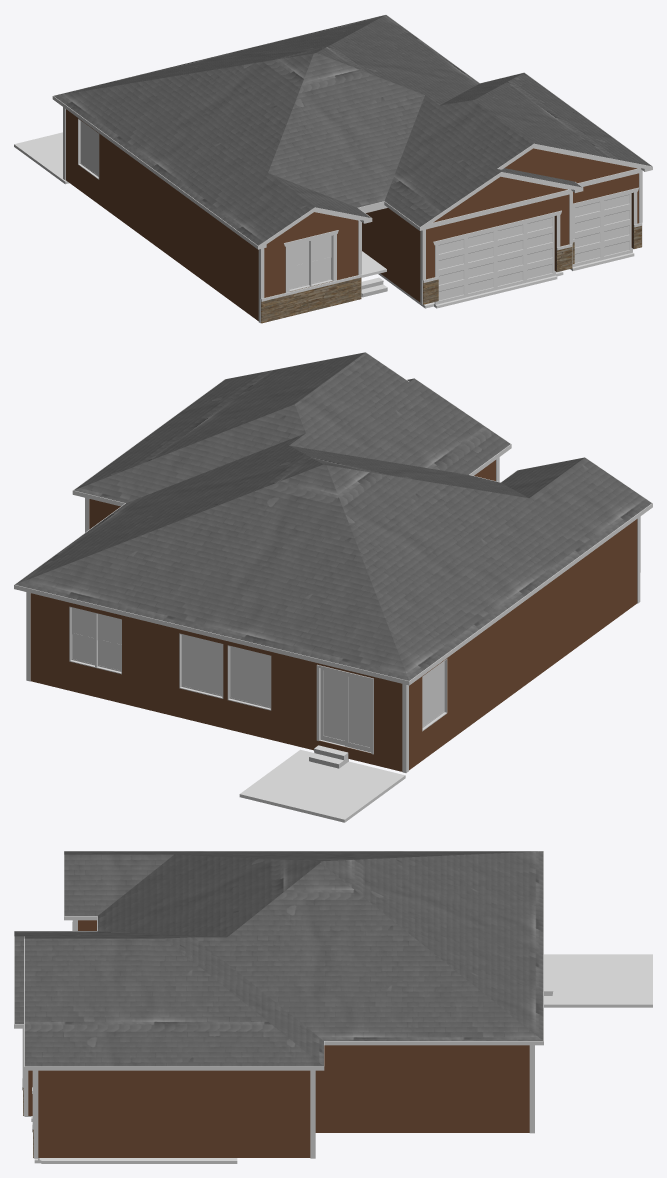
File: 150-1569-dm-craftsman.glb
3 views of the same model, one above another, from view 1: azimuth 30°, elevation 25°; view 2: azimuth 150°, elevation 25°; view 3: azimuth 270°, elevation 25° (orthographic). The views are drawn at different scales.
Visible parts, largest first — view 1: Basic Roof Wood Rafter 4" - Asphalt Shingle - Insulated_f702, Basic Wall BSB Exterior - Stud_5.5" - Sheathing_0.5" - _1e27, Traditional - BSB Exterior - Overhead Garage Door - Clo_dd95, Fascia Fascia-Flat 1x6 w/12" Soffit Bd [4297153], Basic Wall BSB Exterior - Stud_3.5" - Sheathing_0.5" - _b436, Traditional - BSB Exterior - Overhead Garage Door - Clo_6f50, Basic Wall BSB Exterior - Stud_3.5" - Sheathing_0.5" - _dc0e, Basic Wall BSB Exterior - Stud_5.5" - Sheathing_0.5" - _5101, Basic Wall BSB Exterior - Stud_1.5" - Sheathing_0.5" - _1e55, Basic Wall BSB Exterior - Stone Veneer_2" [4291370], Basic Wall BSB Exterior - Stud_1.5" - Sheathing_0.5" - _87de, Trim - Corner Boards Trim - Corner Boards [4294259] (+14 smaller); view 2: Basic Roof Wood Rafter 4" - Asphalt Shingle - Insulated_f702, Basic Wall BSB Exterior - Stud_5.5" - Sheathing_0.5" - _50df, Basic Wall BSB Exterior - Stud_5.5" - Sheathing_0.5" - _1e27, Floor Generic - 4" [4266487], Fascia Fascia-Flat 1x6 w/12" Soffit Bd [4297153], BSB Exterior - SGD XO - 1-Lite 6080 [4266501], BSB Fixed 5060 FX w/ Sill [4266502], BSB Fixed 5060 FX w/ Sill [4266503], Trim - Corner Boards Trim - Corner Boards [4294259], Basic Wall BSB Exterior - Stud_5.5" - Sheathing_0.5" - _eb66, BSB Single Hung 3060 SH w/ Sill [4266484], BSB Single Hung 3060 SH w/ Sill [4266483] (+1 smaller); view 3: Basic Roof Wood Rafter 4" - Asphalt Shingle - Insulated_f702, Basic Wall BSB Exterior - Stud_5.5" - Sheathing_0.5" - _ae12, Basic Wall BSB Exterior - Stud_3.5" - Sheathing_0.5" - _9955, Basic Wall BSB Exterior - Stud_3.5" - Sheathing_0.5" - _d089, Basic Wall BSB Exterior - Stud_5.5" - Sheathing_0.5" - _a6fc, Floor Generic - 4" [4266487], Fascia Fascia-Flat 1x6 w/12" Soffit Bd [4297153], Trim - Corner Boards Trim - Corner Boards [4294259], Floor BSB Concrete Slab - 4" - Slope Option [4286421].
Part boxes in pixels (x1,y1,x2,y2): Basic Roof Wood Rafter 4" - Asphalt Shingle - Insulated_f702: [54, 15, 651, 245]; Basic Wall BSB Exterior - Stud_5.5" - Sheathing_0.5" - _1e27: [66, 110, 243, 309]; Traditional - BSB Exterior - Overhead Garage Door - Clo_dd95: [434, 216, 555, 304]; Fascia Fascia-Flat 1x6 w/12" Soffit Bd [4297153]: [52, 14, 652, 249]; Basic Wall BSB Exterior - Stud_3.5" - Sheathing_0.5" - _b436: [362, 208, 420, 302]; Traditional - BSB Exterior - Overhead Garage Door - Clo_6f50: [572, 193, 632, 266]; Basic Wall BSB Exterior - Stud_3.5" - Sheathing_0.5" - _dc0e: [426, 194, 569, 279]; Basic Wall BSB Exterior - Stud_5.5" - Sheathing_0.5" - _5101: [264, 220, 358, 297]; Basic Wall BSB Exterior - Stud_1.5" - Sheathing_0.5" - _1e55: [505, 148, 637, 183]; Basic Wall BSB Exterior - Stone Veneer_2" [4291370]: [261, 275, 361, 323]; Basic Wall BSB Exterior - Stud_1.5" - Sheathing_0.5" - _87de: [433, 176, 567, 222]; Trim - Corner Boards Trim - Corner Boards [4294259]: [63, 107, 642, 323]; Basic Roof Wood Rafter 4" - Asphalt Shingle - Insulated_f702: [15, 352, 651, 680]; Basic Wall BSB Exterior - Stud_5.5" - Sheathing_0.5" - _50df: [30, 593, 402, 771]; Basic Wall BSB Exterior - Stud_5.5" - Sheathing_0.5" - _1e27: [409, 532, 618, 770]; Floor Generic - 4" [4266487]: [239, 749, 405, 822]; Fascia Fascia-Flat 1x6 w/12" Soffit Bd [4297153]: [14, 352, 652, 685]; BSB Exterior - SGD XO - 1-Lite 6080 [4266501]: [316, 664, 373, 754]; BSB Fixed 5060 FX w/ Sill [4266502]: [227, 645, 271, 710]; BSB Fixed 5060 FX w/ Sill [4266503]: [179, 633, 223, 698]; Trim - Corner Boards Trim - Corner Boards [4294259]: [26, 457, 640, 772]; Basic Wall BSB Exterior - Stud_5.5" - Sheathing_0.5" - _eb66: [619, 519, 637, 616]; BSB Single Hung 3060 SH w/ Sill [4266484]: [69, 606, 95, 667]; BSB Single Hung 3060 SH w/ Sill [4266483]: [95, 613, 121, 674]; Basic Roof Wood Rafter 4" - Asphalt Shingle - Insulated_f702: [14, 851, 543, 1066]; Basic Wall BSB Exterior - Stud_5.5" - Sheathing_0.5" - _ae12: [315, 1045, 529, 1132]; Basic Wall BSB Exterior - Stud_3.5" - Sheathing_0.5" - _9955: [38, 1070, 139, 1157]; Basic Wall BSB Exterior - Stud_3.5" - Sheathing_0.5" - _d089: [139, 1070, 239, 1157]; Basic Wall BSB Exterior - Stud_5.5" - Sheathing_0.5" - _a6fc: [239, 1070, 310, 1157]; Floor Generic - 4" [4266487]: [544, 954, 652, 1007]; Fascia Fascia-Flat 1x6 w/12" Soffit Bd [4297153]: [14, 851, 543, 1070]; Trim - Corner Boards Trim - Corner Boards [4294259]: [22, 920, 534, 1158]; Floor BSB Concrete Slab - 4" - Slope Option [4286421]: [24, 1116, 237, 1163].
Size of the model in its own units: 15.58 by 6.37 by 19.53.
Materials: 3 (2 with a texture image).
